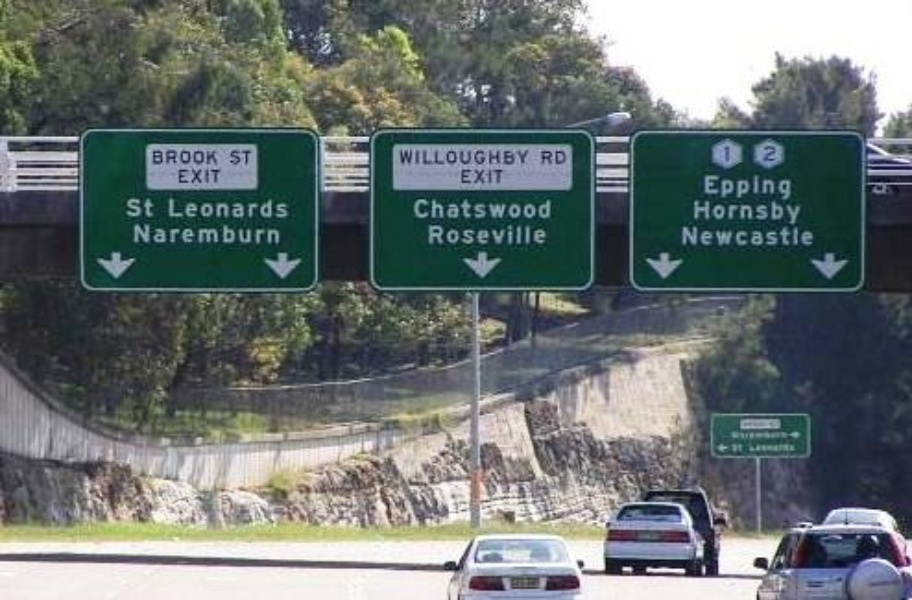text: (705, 172, 720, 202), (721, 172, 736, 202), (737, 172, 752, 202), (753, 172, 768, 202), (769, 172, 784, 202), (705, 196, 720, 226), (721, 196, 736, 226), (737, 196, 752, 226), (753, 196, 768, 226), (769, 196, 784, 226), (785, 196, 800, 226), (417, 196, 432, 222), (433, 196, 448, 222), (449, 196, 464, 222), (465, 196, 480, 222), (481, 196, 496, 222), (497, 196, 512, 222), (513, 196, 528, 222), (529, 196, 544, 222), (145, 220, 160, 246), (161, 220, 176, 246), (177, 220, 192, 246), (193, 220, 208, 246), (209, 220, 224, 246), (225, 220, 240, 246), (241, 220, 256, 246), (257, 220, 272, 246), (691, 196, 704, 226), (130, 220, 144, 246), (722, 141, 736, 167), (129, 196, 144, 220), (177, 196, 192, 220), (193, 196, 208, 220), (209, 196, 224, 220), (225, 196, 240, 220), (241, 196, 256, 220), (257, 196, 272, 220), (273, 196, 288, 220), (433, 222, 448, 246), (449, 222, 464, 246), (465, 222, 480, 246), (481, 222, 496, 246), (497, 222, 512, 246), (513, 222, 528, 246), (529, 222, 544, 246), (689, 226, 704, 250), (705, 226, 720, 250), (721, 226, 736, 250), (737, 226, 752, 250), (753, 226, 768, 250), (769, 226, 784, 250), (785, 226, 800, 250), (226, 146, 240, 170), (801, 226, 815, 250), (161, 145, 176, 167), (177, 145, 192, 167), (193, 145, 208, 167), (177, 165, 192, 187), (193, 165, 208, 187), (209, 165, 224, 187), (465, 165, 480, 187), (481, 165, 496, 187), (401, 146, 416, 167), (417, 146, 432, 167), (433, 146, 448, 167), (449, 146, 464, 167), (465, 146, 480, 167), (481, 146, 496, 167), (497, 146, 512, 167), (513, 146, 528, 167), (545, 148, 560, 169), (145, 196, 157, 220), (241, 146, 253, 170), (769, 141, 780, 167), (273, 220, 283, 246), (209, 145, 220, 167), (785, 172, 793, 202), (678, 226, 688, 250), (759, 141, 768, 167), (167, 196, 176, 220), (545, 196, 553, 222), (497, 165, 506, 187), (737, 429, 752, 442), (753, 429, 768, 442), (769, 429, 784, 442), (785, 429, 800, 442), (737, 442, 752, 455), (753, 442, 768, 455), (769, 442, 784, 455), (152, 145, 160, 167), (785, 442, 798, 455), (457, 165, 464, 187), (753, 421, 768, 431), (769, 421, 783, 431), (726, 429, 736, 442), (561, 148, 567, 169), (427, 222, 432, 246), (124, 196, 128, 220), (743, 421, 752, 431), (172, 165, 176, 187), (397, 146, 400, 167), (541, 148, 544, 169), (414, 196, 416, 222), (801, 429, 805, 442), (732, 442, 736, 455), (545, 222, 547, 246), (801, 196, 802, 226), (289, 196, 290, 220), (225, 165, 226, 187), (529, 146, 530, 167)
